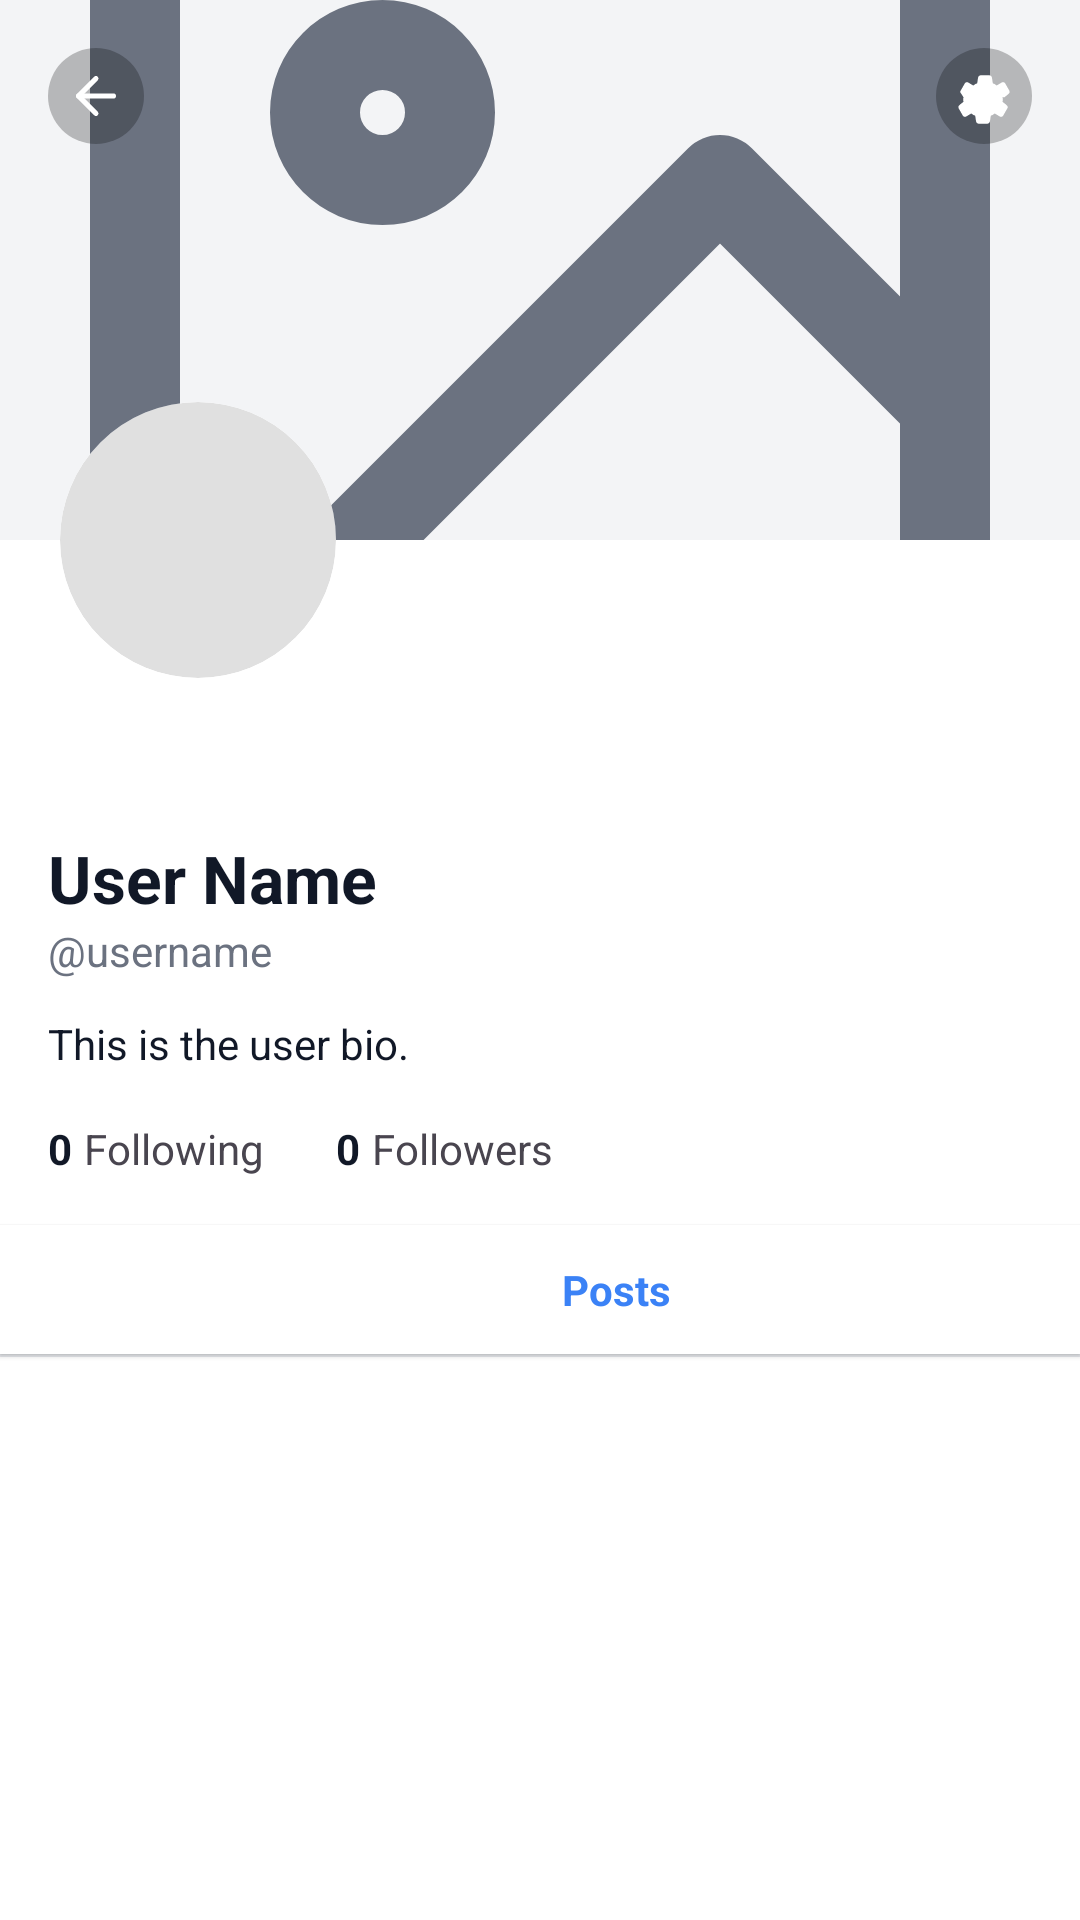

Point at icon controls on the screen. Image size 1080*1920, points as (x,y).
arrow left: (96,96)
settings: (984,96)
